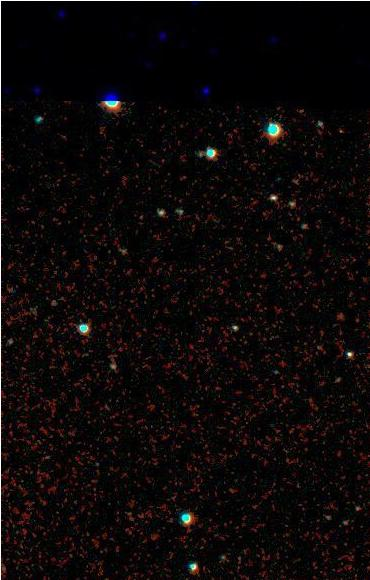star: (281, 93, 311, 123)
